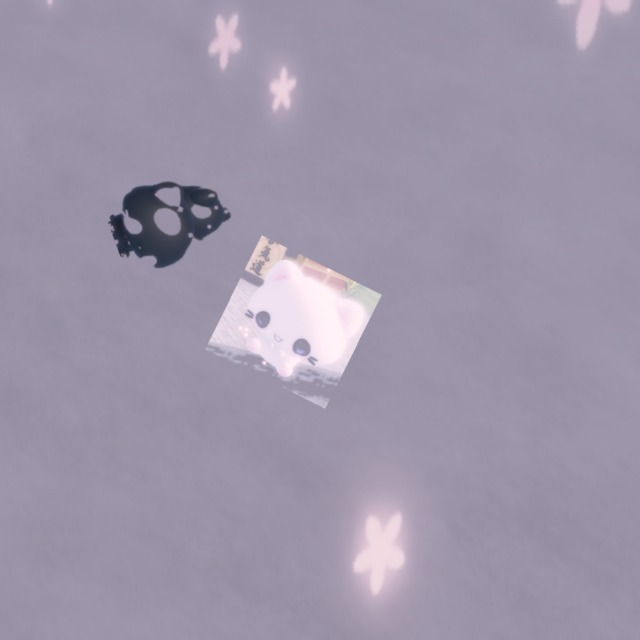urso_branco: (205, 235, 382, 409)
urso_preto: (98, 153, 251, 289)
